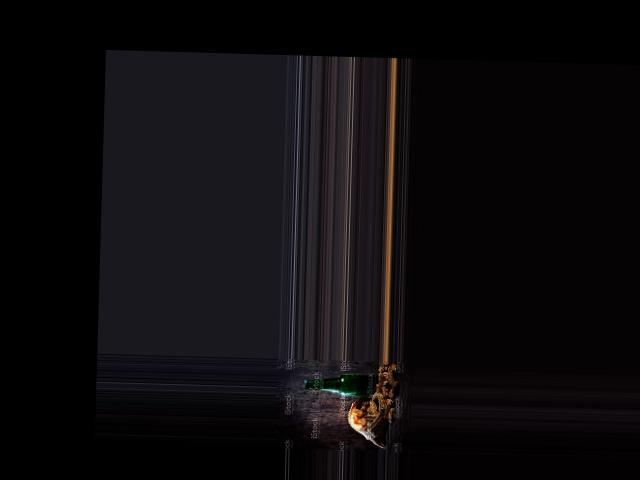beer: (303, 372, 384, 397)
